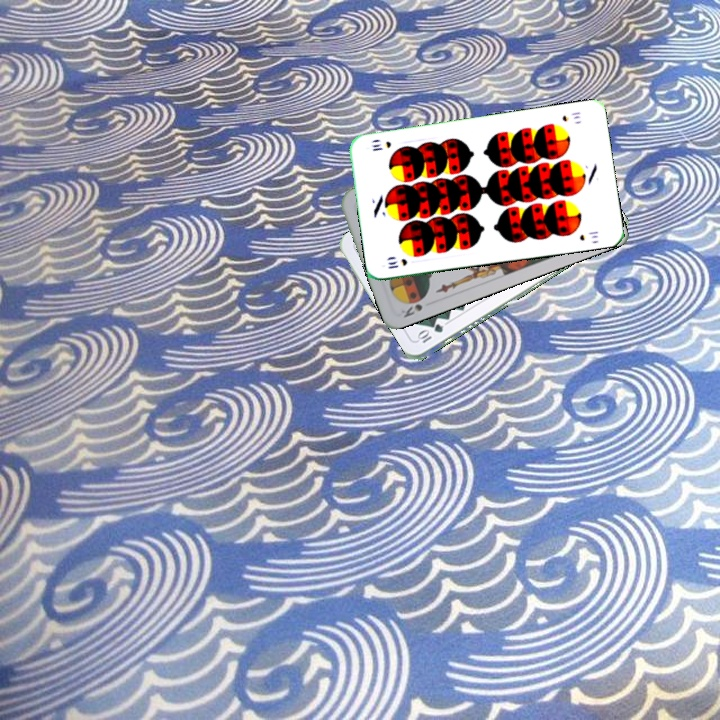G10: (414, 321, 446, 346)
S10: (384, 255, 410, 271), (558, 108, 583, 124)
SK: (397, 300, 425, 320)
